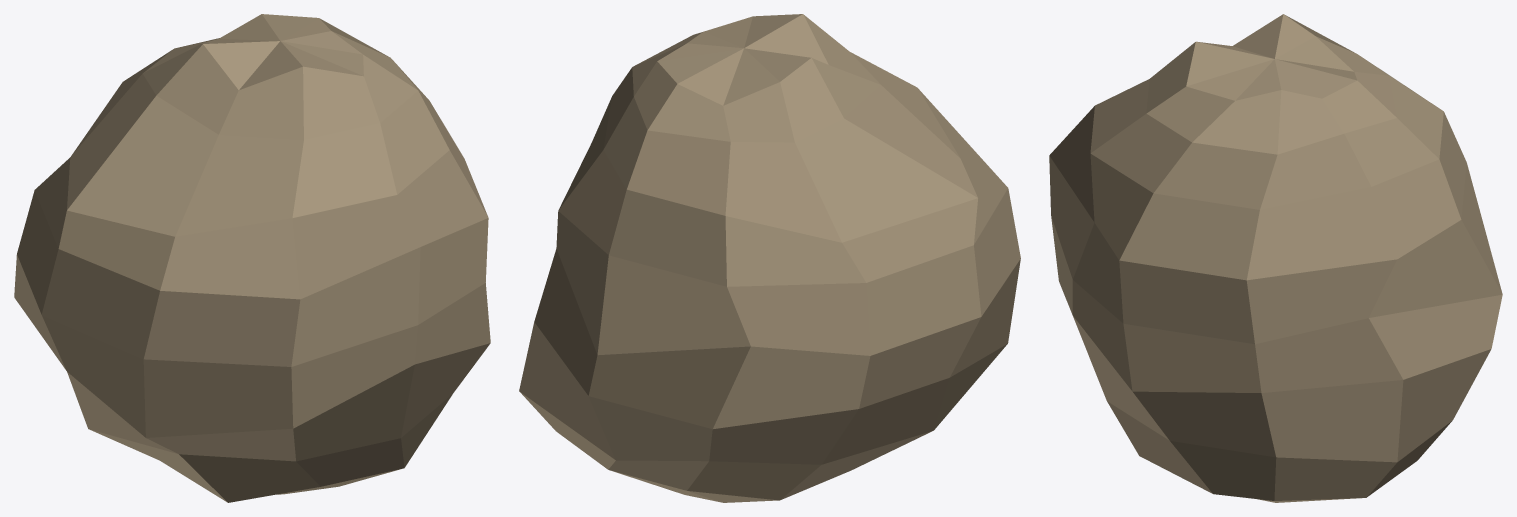
Rendered from rocks_round_med.fbx.
The picture shows the model from 3 angles, left to right: view 1: azimuth 30°, elevation 25°; view 2: azimuth 150°, elevation 25°; view 3: azimuth 270°, elevation 25°; orthographic projection. The views are drawn at different scales.
Visible parts, largest first — view 1: rocks_round_med; view 2: rocks_round_med; view 3: rocks_round_med.
Part boxes in pixels (x1,y1,x2,y2): rocks_round_med: [14, 14, 490, 502]; rocks_round_med: [519, 14, 1020, 502]; rocks_round_med: [1049, 14, 1502, 502].
Size of the model in its own units: 28.92 by 29.71 by 28.92.
